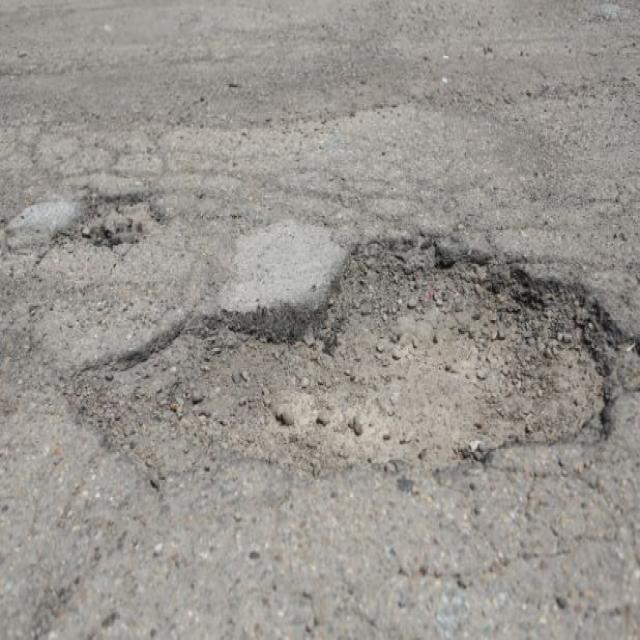pothole: (62, 225, 620, 476)
